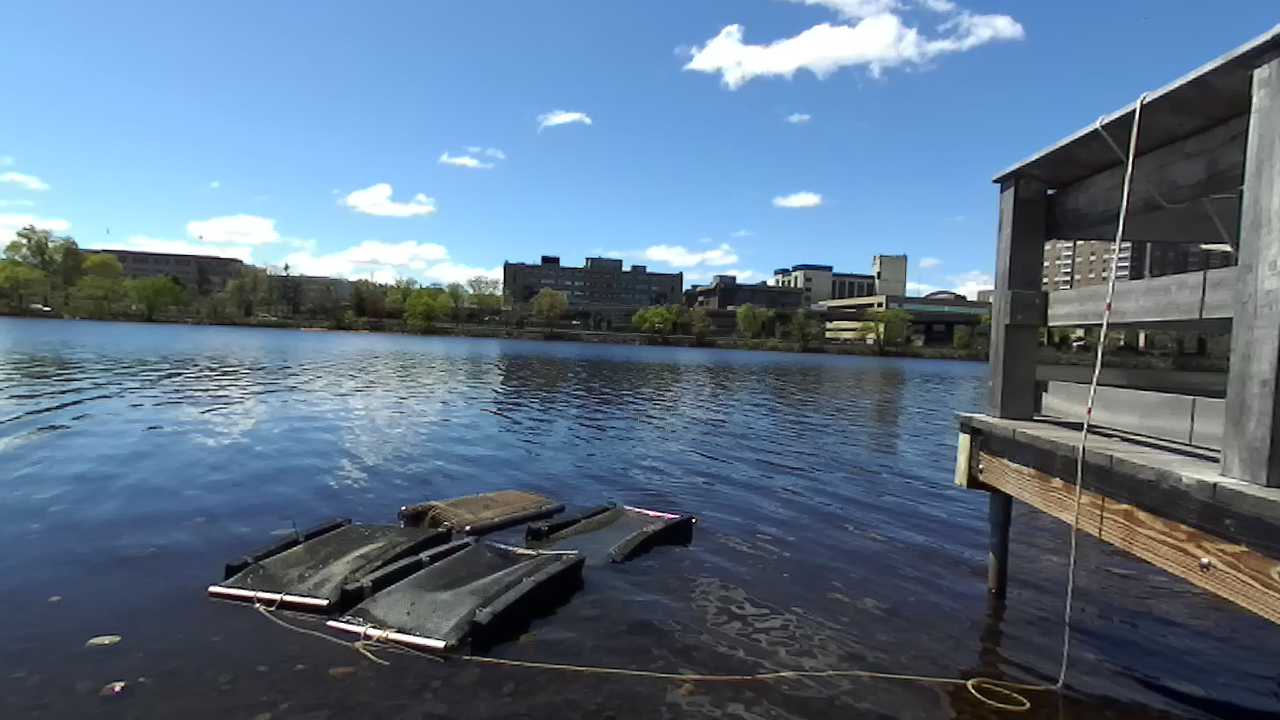bag: (325, 540, 582, 650), (208, 515, 453, 614), (525, 497, 695, 564), (398, 486, 567, 531)
